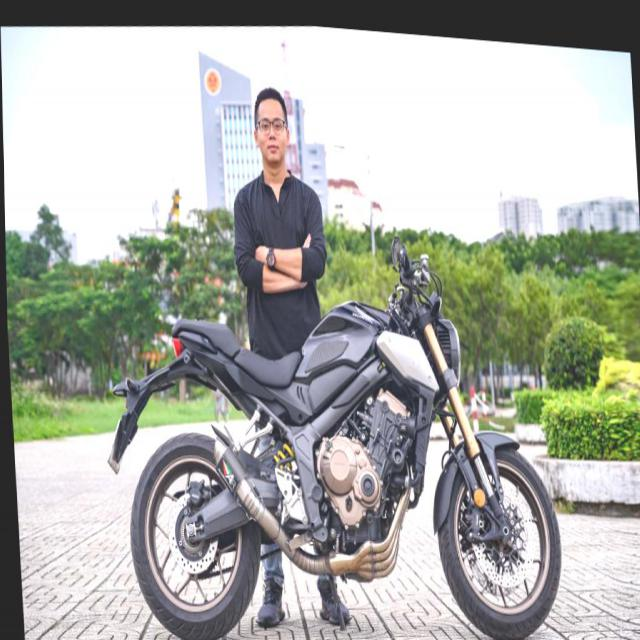CB650R: (115, 252, 567, 639)
